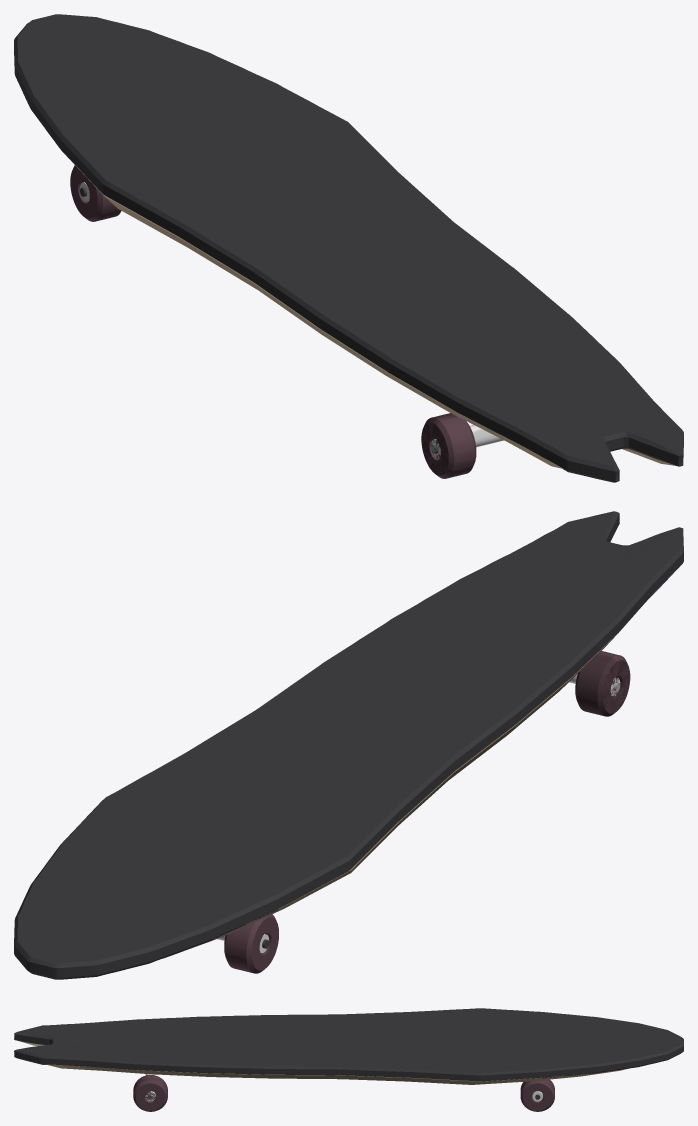
The model's file is colored skateboard.fbx.
3 renders of one model, top to bottom at view 1: azimuth 30°, elevation 25°; view 2: azimuth 150°, elevation 25°; view 3: azimuth 270°, elevation 25°, orthographic. The views are drawn at different scales.
Parts seen in each view (by area): view 1: pCylinder1, pCylinder2, polySurface13, polySurface20, polySurface4; view 2: pCylinder1, polySurface4, polySurface20, pCylinder2, polySurface13; view 3: pCylinder1, pCylinder2, polySurface16, polySurface19.
Part boxes in pixels (x1,y1,x2,y2): pCylinder1: [14, 14, 683, 482]; pCylinder2: [62, 151, 675, 468]; polySurface13: [421, 415, 476, 478]; polySurface20: [70, 165, 121, 221]; polySurface4: [421, 413, 456, 475]; pCylinder1: [14, 511, 683, 979]; polySurface4: [575, 653, 630, 716]; polySurface20: [224, 914, 278, 973]; pCylinder2: [163, 567, 679, 958]; polySurface13: [598, 651, 630, 713]; pCylinder1: [14, 1008, 683, 1081]; pCylinder2: [19, 1041, 627, 1084]; polySurface16: [133, 1075, 167, 1111]; polySurface19: [520, 1079, 554, 1111].
Size of the model in its own units: 0.2368 by 0.0781 by 1.01.
